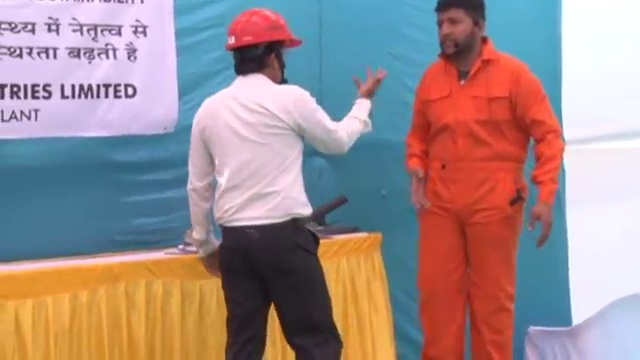helmet: (221, 4, 303, 53)
helmet_off: (432, 1, 488, 60)
helmet_on: (221, 4, 305, 88)
person: (184, 3, 385, 360), (408, 1, 563, 360)
